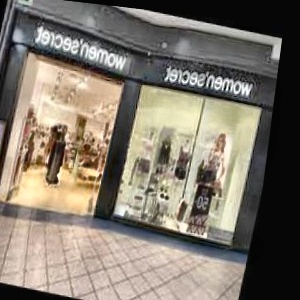women_secret: (101, 29, 281, 96), (112, 20, 157, 51)
